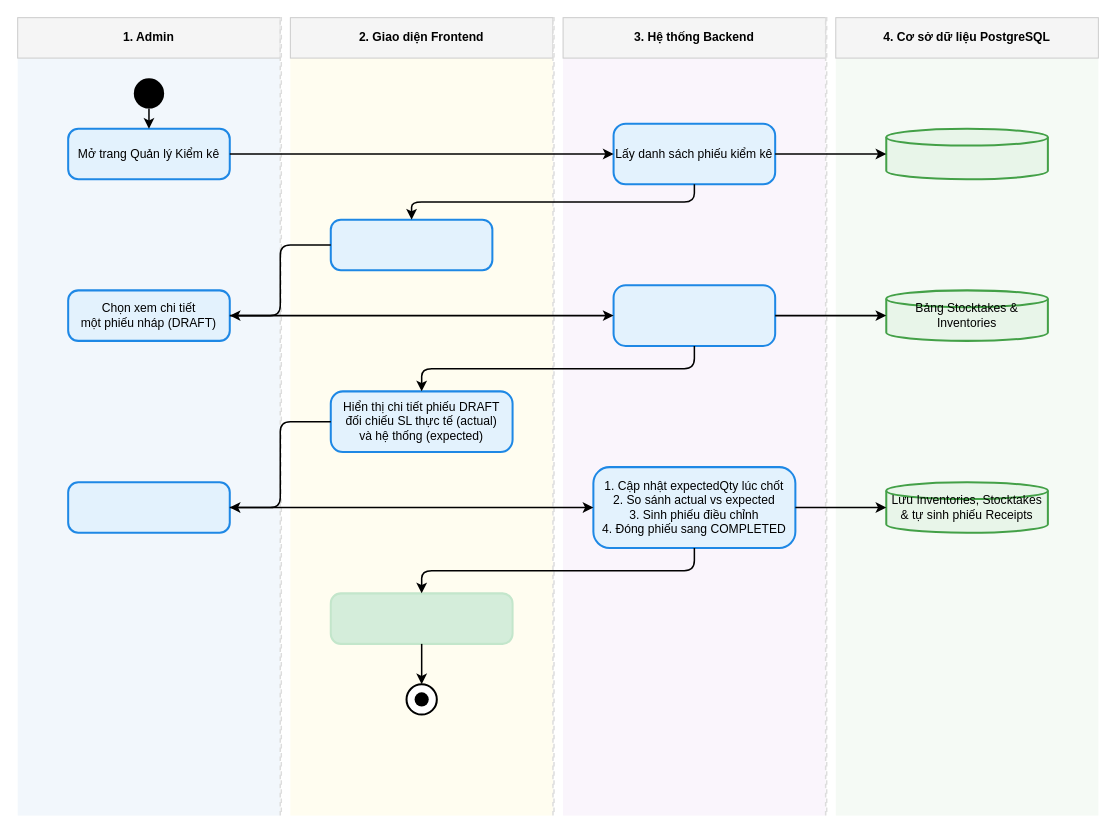
The diagram is 1116 pixels wide and 834 high, and some of its shapes have lost their labels. Here are the shapes that lost their labels. From the top down, the centre of each, then its label:
point 966,153: Bảng Stocktakes
point 411,244: Hiển thị danh sách phiếu
point 694,315: Lấy chi tiết phiếu kiểm kê kèm số lượng tồn kho dự kiến
point 148,507: Click nút "Chốt kiểm kê"
point 421,618: Thông báo thành công & Hiển thị kết quả chênh lệch
